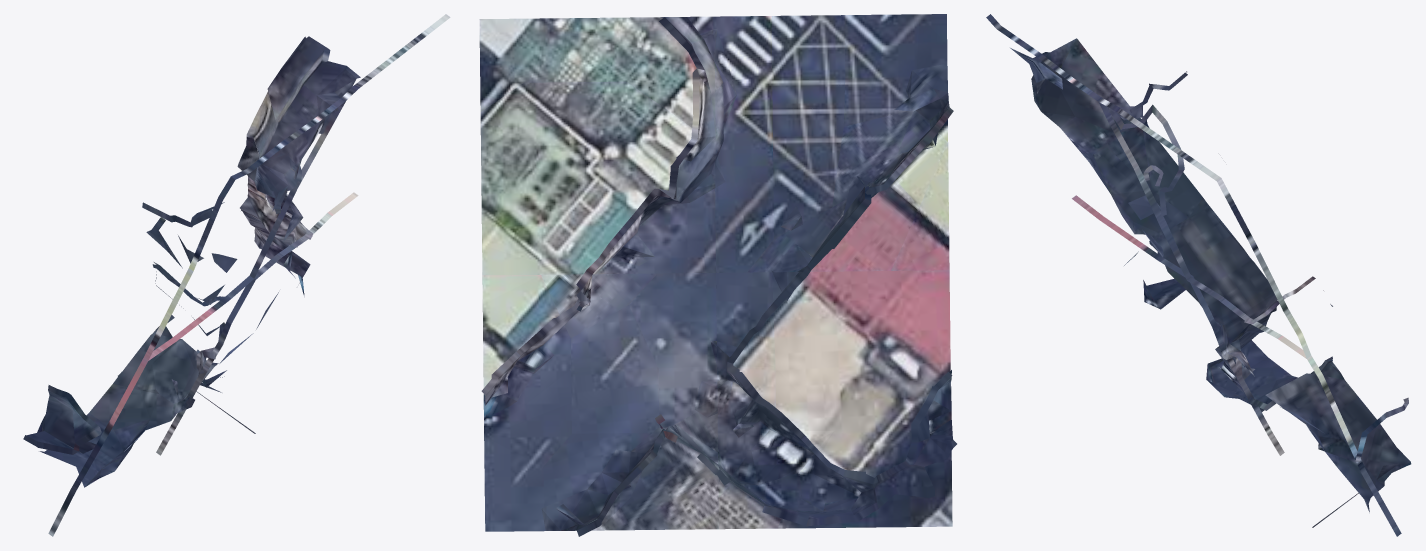
3 renders of one model, left to right at view 1: azimuth 30°, elevation 25°; view 2: azimuth 150°, elevation 25°; view 3: azimuth 270°, elevation 25°, orthographic. The views are drawn at different scales.
Bounding box in the file's own units: 39.82 × 38.4 × 32.96.
1 material, 1 textured.
